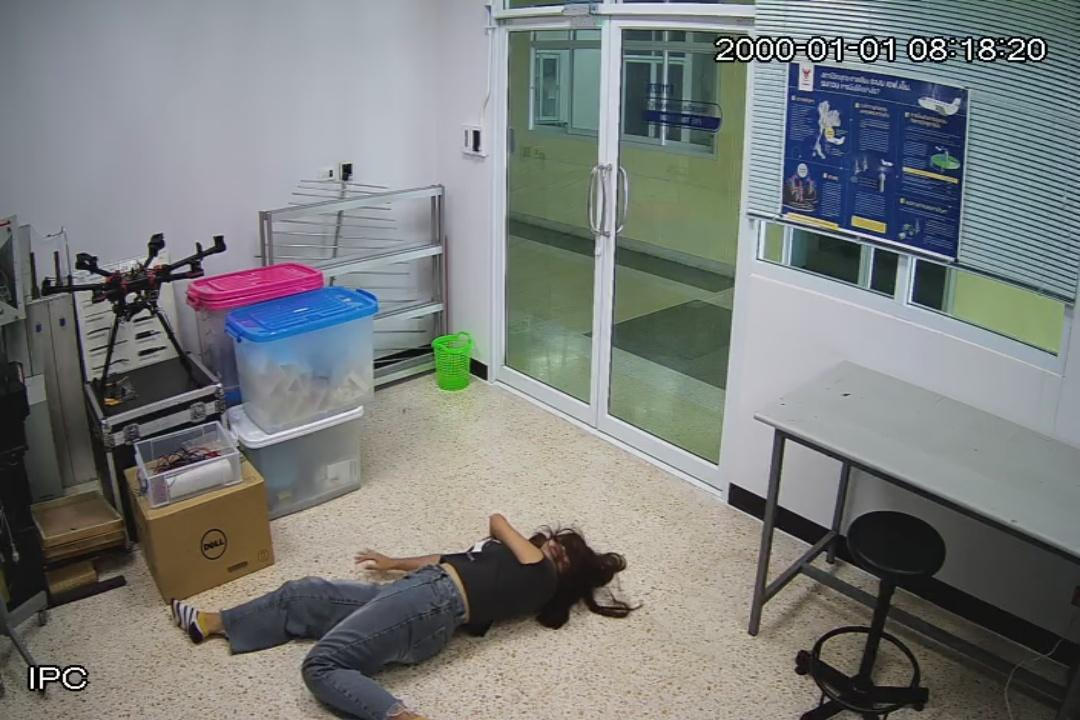fall: (170, 507, 627, 720)
